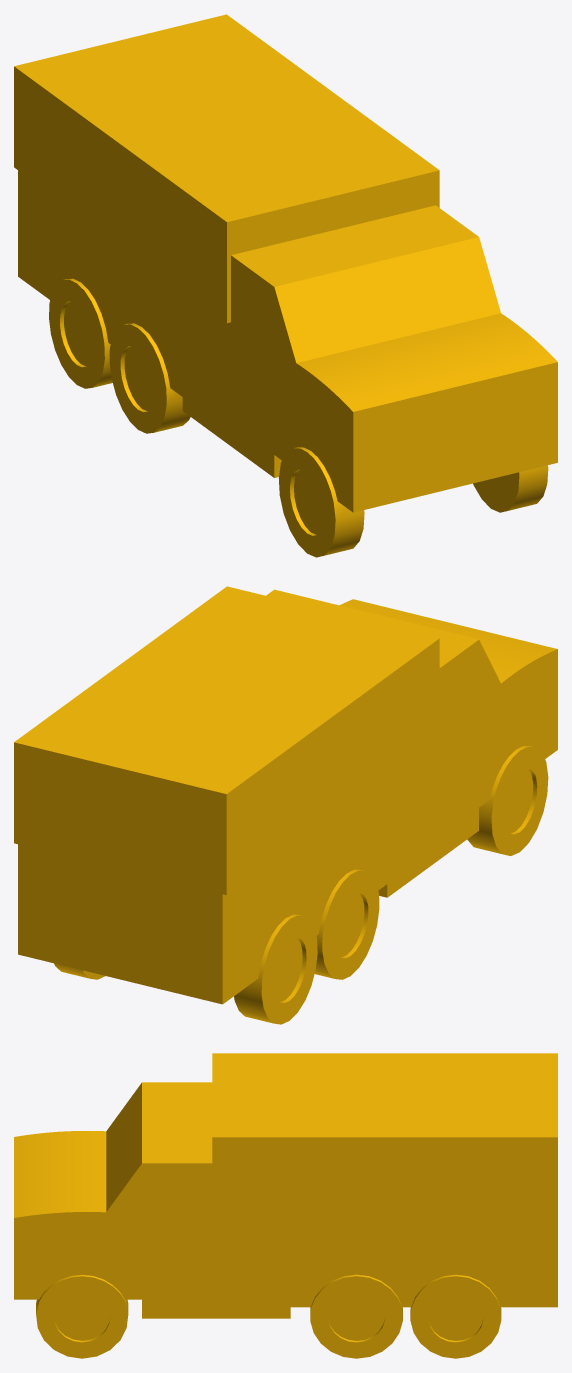
The model's file is Game_Piece_Troop_3_Yellow_01.fbx.
3 renders of one model, top to bottom at view 1: azimuth 30°, elevation 25°; view 2: azimuth 150°, elevation 25°; view 3: azimuth 270°, elevation 25°, orthographic. The views are drawn at different scales.
Parts seen in each view (by area): view 1: Game_Piece_Troop_3_Yellow_01; view 2: Game_Piece_Troop_3_Yellow_01; view 3: Game_Piece_Troop_3_Yellow_01.
Boxes of the visible parts, <box> form: Game_Piece_Troop_3_Yellow_01: <box>14,14,557,557</box>; Game_Piece_Troop_3_Yellow_01: <box>14,586,557,1024</box>; Game_Piece_Troop_3_Yellow_01: <box>14,1053,557,1358</box>.
Size of the model in its own units: 10.54 by 12.92 by 28.79.
